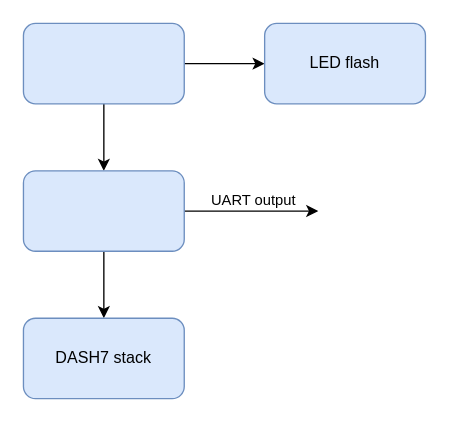
Some shapes in this 449 by 422 pixel diagram are drawn without their labels. The shapes that lost their labels are listed below. From the top down, each one's centre as x and y in pixels, then its label:
At (x=103, y=63): "Gateway app".
At (x=103, y=210): "ALP layer".
